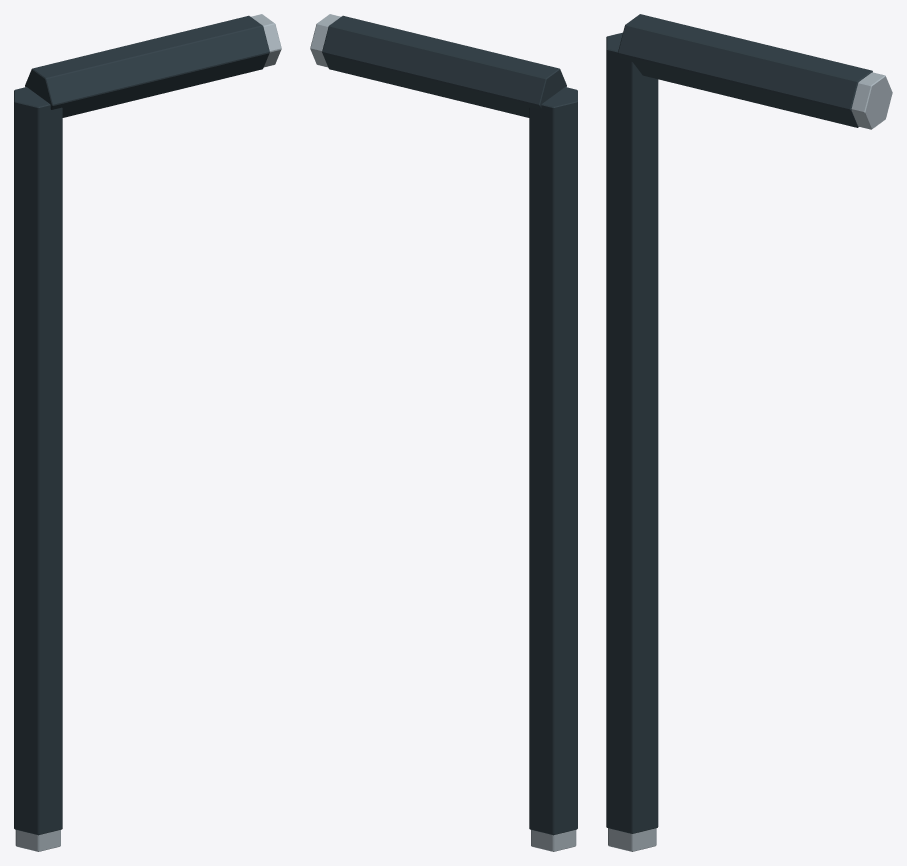
File: b06_hex_key.glb
3 views of the same model, side by side, from view 1: azimuth 30°, elevation 25°; view 2: azimuth 150°, elevation 25°; view 3: azimuth 330°, elevation 25° (orthographic). The views are drawn at different scales.
Visible parts, largest first — view 1: b06_hex_key; view 2: b06_hex_key; view 3: b06_hex_key.
Part boxes in pixels (x1,y1,x2,y2): b06_hex_key: [14, 14, 281, 851]; b06_hex_key: [310, 14, 577, 851]; b06_hex_key: [606, 14, 892, 851].
Bounding box in the file's own units: 0.0607 × 0.175 × 0.0114.
